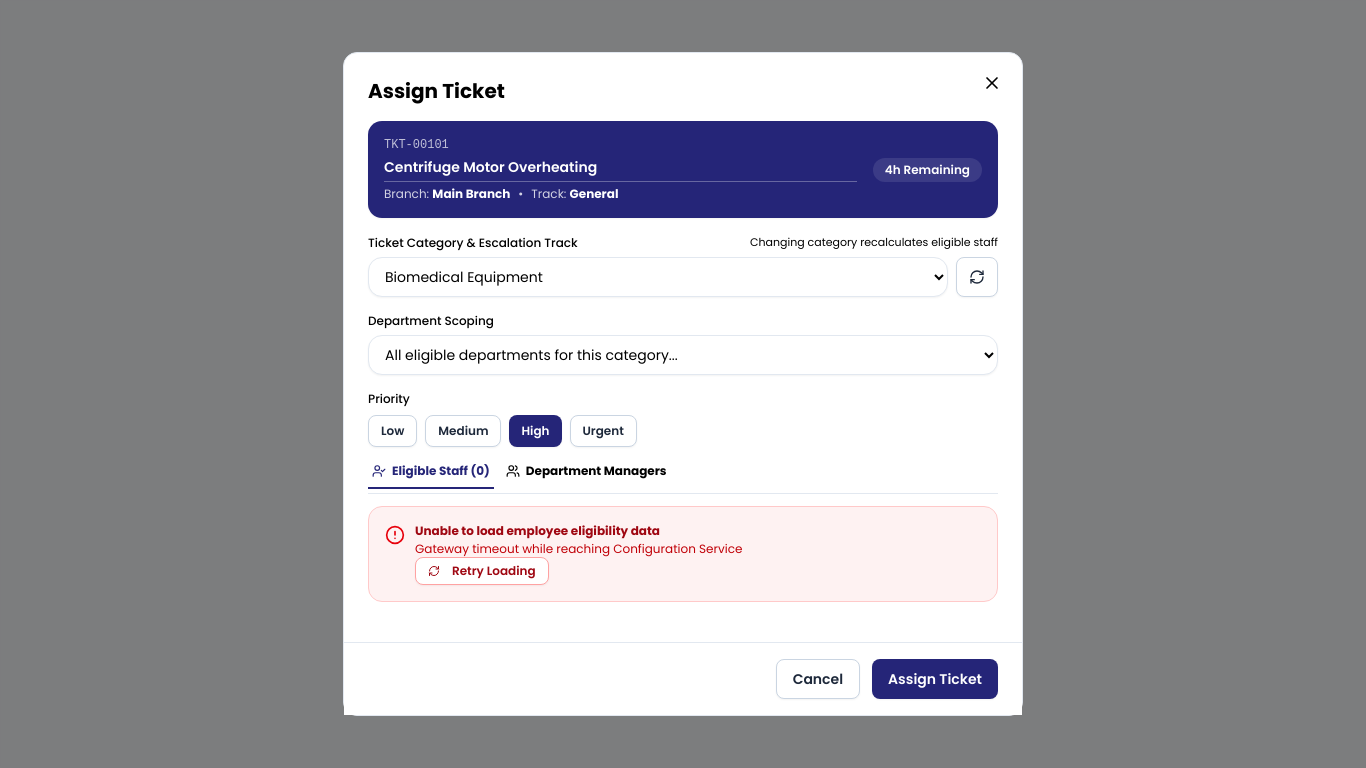
Test case: AssignModal Eligibility & Reassignment Escalation Tests › displays clear error state with retry action when eligibility fetch fails
Expected: the text "Unable to load employee eligibility data" is shown, 415,522 -> 660,539
Expected: the text "Gateway timeout while reaching Configuration Service" is shown, 415,540 -> 742,557
Click the button "Retry Loading". click: (482, 571)
box: 415,557 -> 549,585
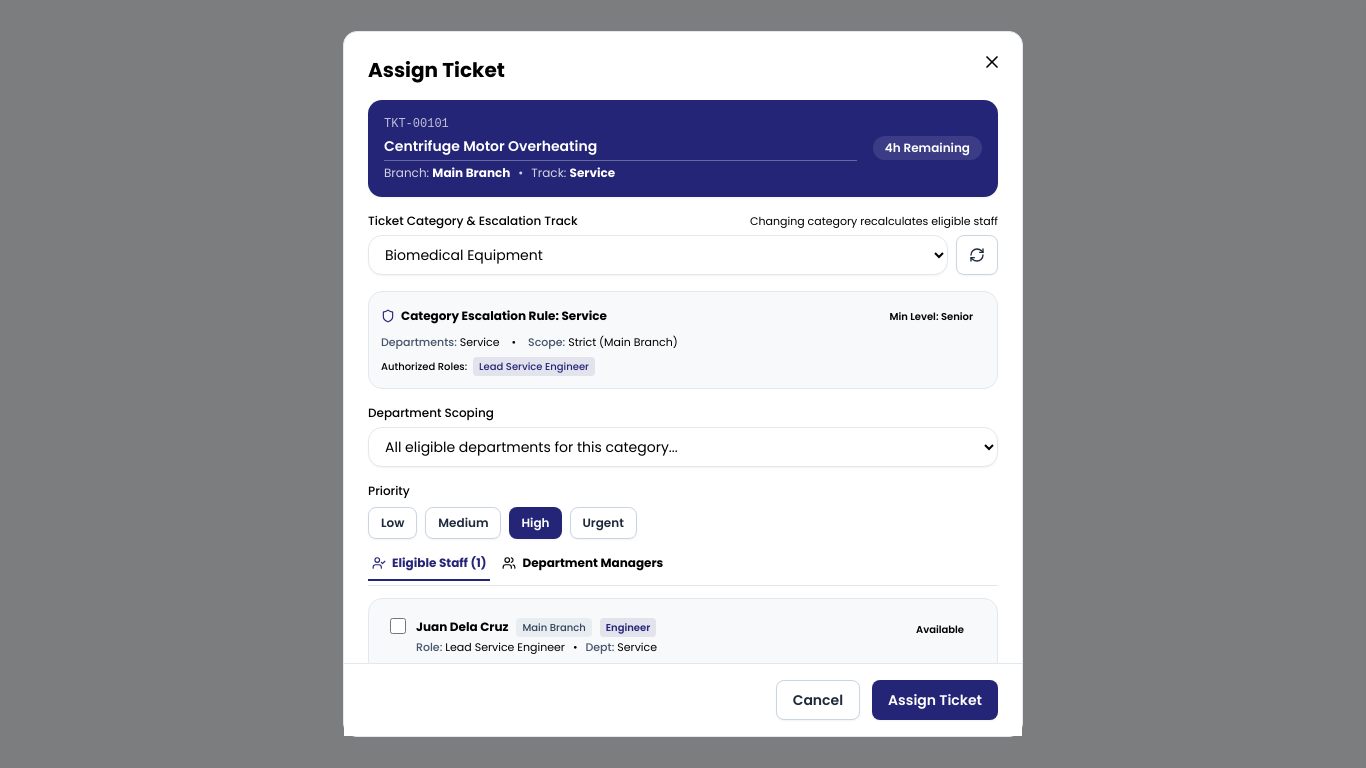
Expected: the text "Juan Dela Cruz" is shown, 416,619 -> 508,635
